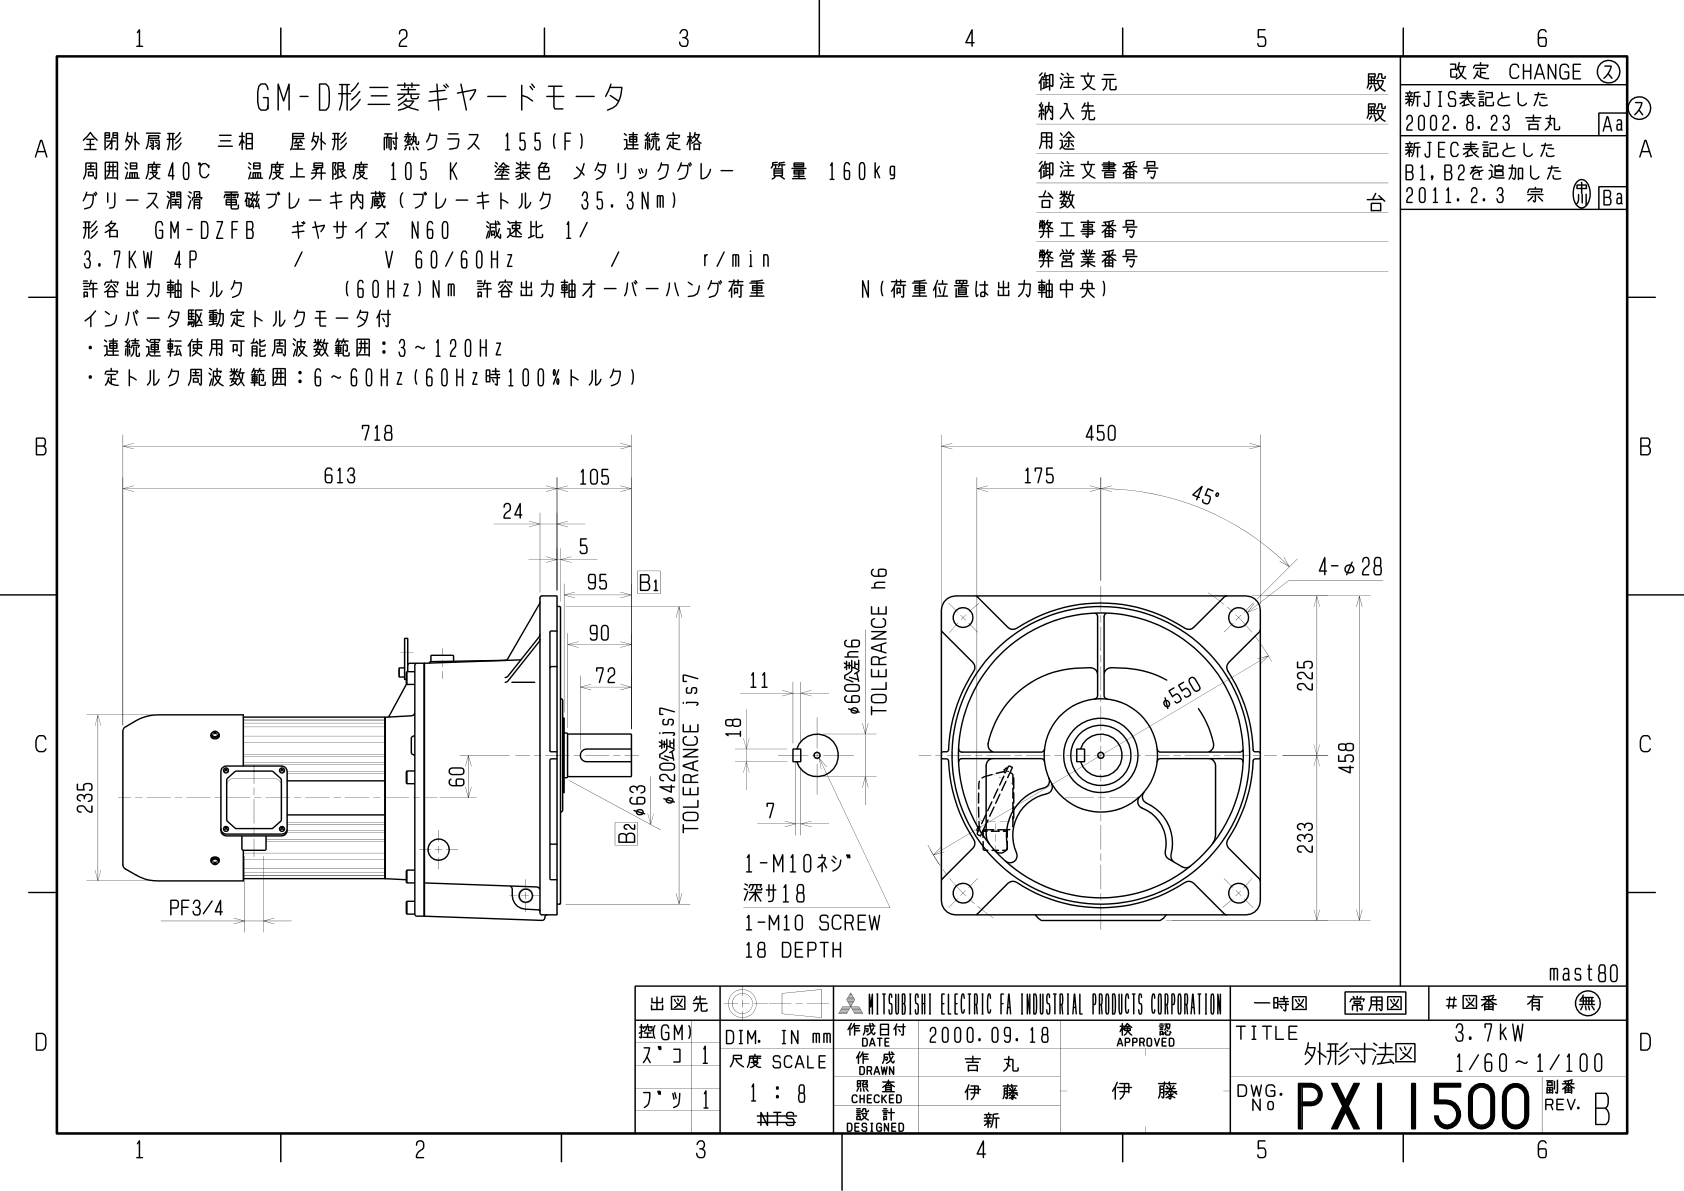GM_D_インバータ屋外_三相_フランジ: (70, 403, 1392, 978)
